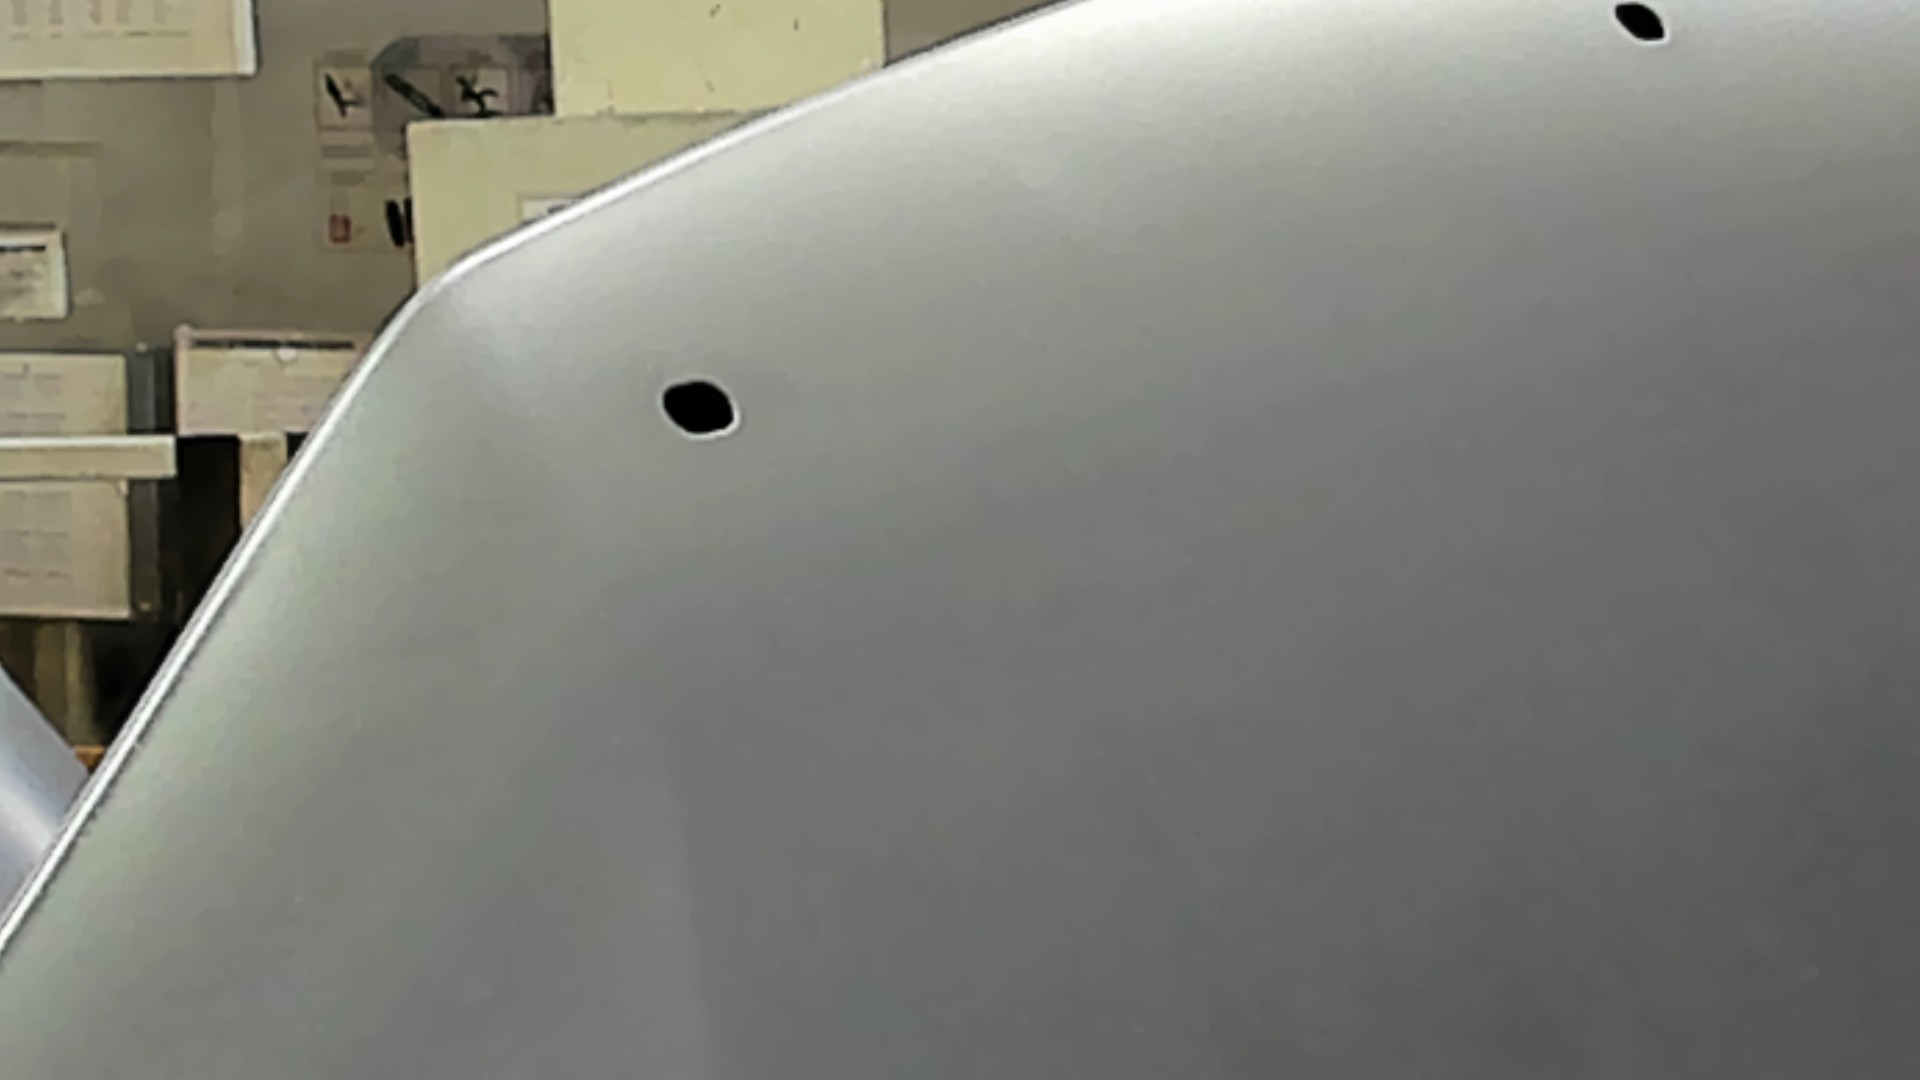amorfo: (650, 373, 746, 444), (1611, 1, 1675, 47)
capo: (914, 99, 1920, 1080)
